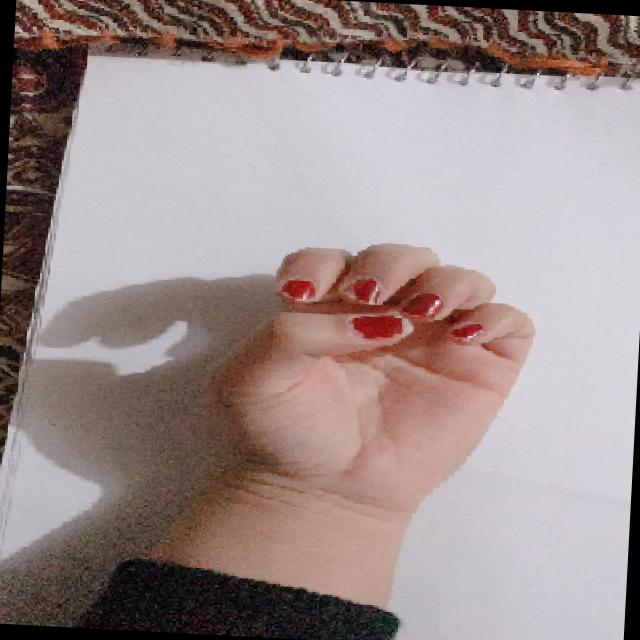Nail: (350, 313, 411, 341), (401, 294, 442, 320), (349, 277, 381, 304), (281, 279, 317, 301), (451, 323, 483, 341)
